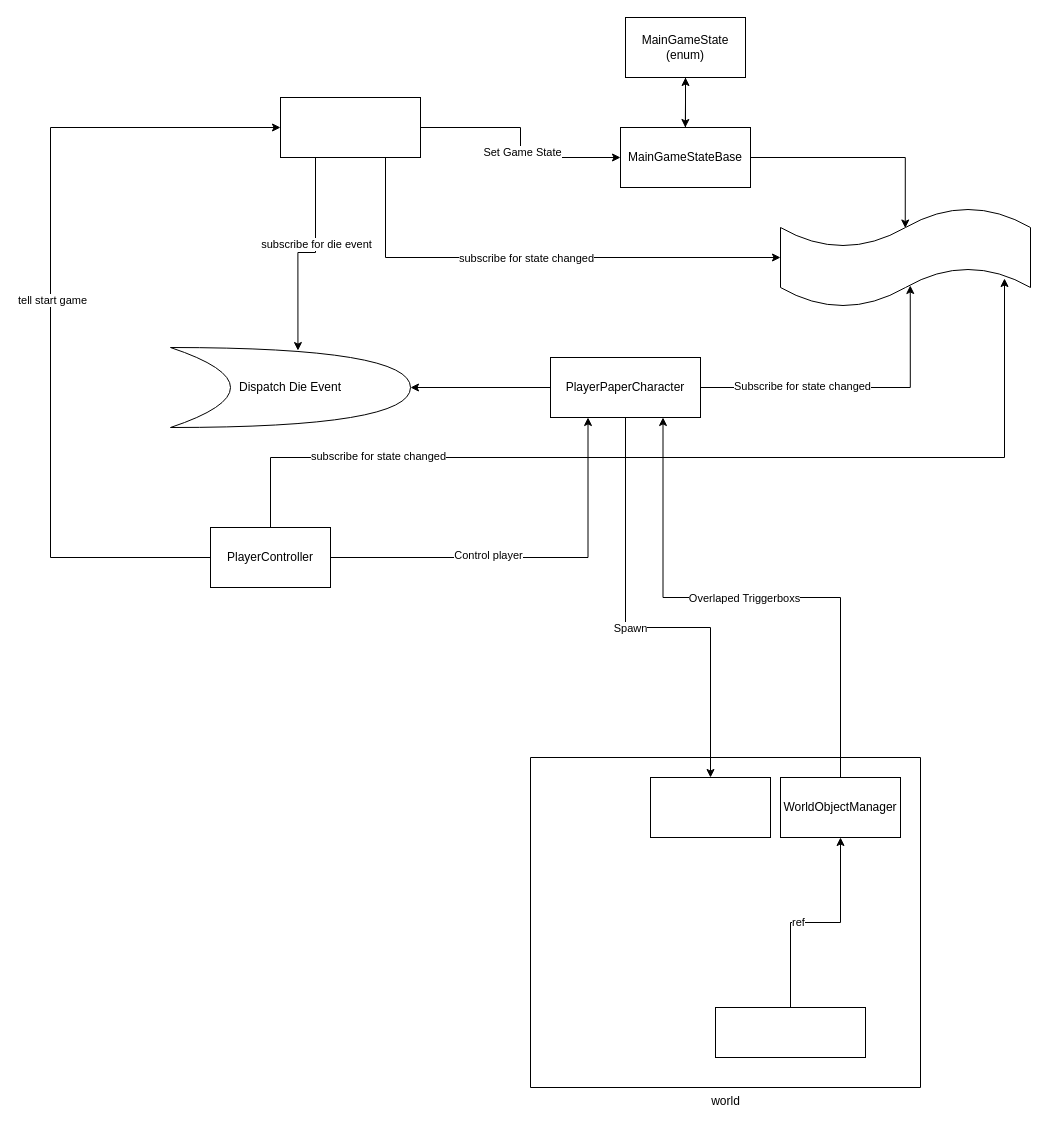
Image size: 1048x1126. Some labels were removed from this diagram. Each missing label, with the centre of its shape:
"Dispatch state change" goes at point (905, 257).
"MainGameModeBase" goes at point (350, 127).
"PlayerStart" goes at point (710, 807).
"TriggerBox" goes at point (790, 1032).
